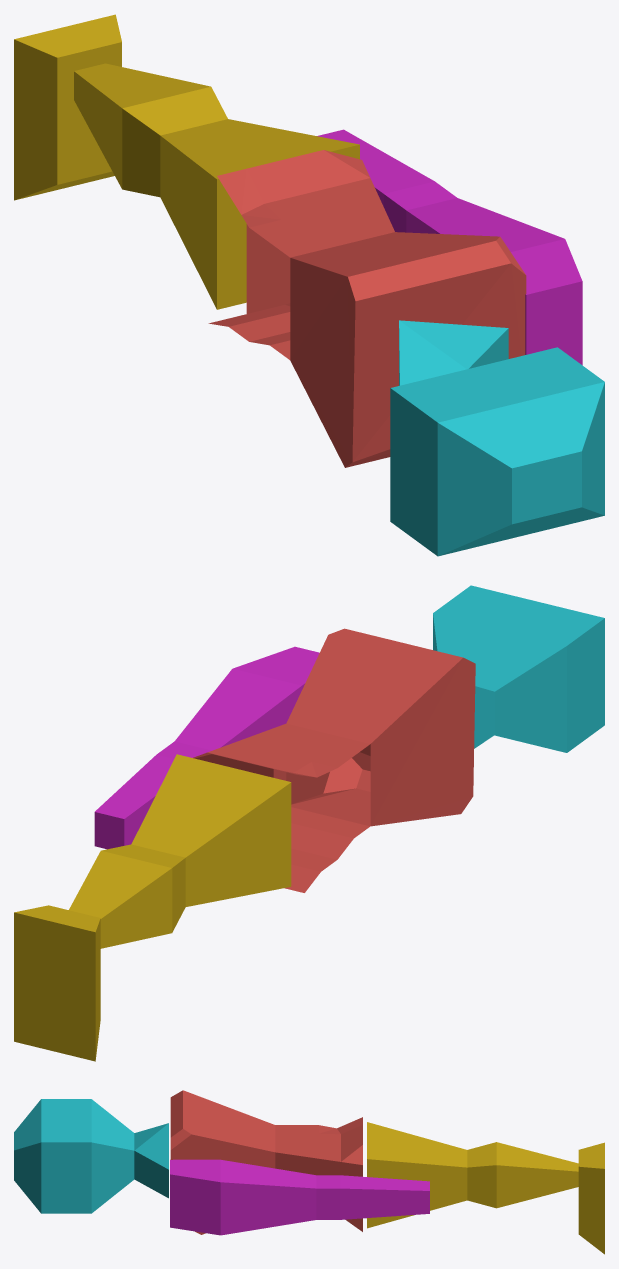
The model's file is perso2.obj.
3 renders of one model, top to bottom at view 1: azimuth 30°, elevation 25°; view 2: azimuth 150°, elevation 25°; view 3: azimuth 270°, elevation 25°, orthographic. The views are drawn at different scales.
Parts seen in each view (by area): view 1: torso, head, legs, arms; view 2: torso, legs, head, arms; view 3: arms, legs, head, torso.
Part boxes in pixels (<box>): torso: <box>208,150,526,467</box>; head: <box>390,320,604,556</box>; legs: <box>14,14,359,309</box>; arms: <box>317,129,582,365</box>; torso: <box>193,628,475,892</box>; legs: <box>14,754,291,1061</box>; head: <box>433,585,604,752</box>; arms: <box>94,646,319,849</box>; arms: <box>170,1159,429,1235</box>; legs: <box>367,1122,604,1254</box>; head: <box>14,1099,168,1213</box>; torso: <box>170,1090,362,1234</box>.
Size of the model in its own units: 0.6778 by 0.501 by 2.2.
